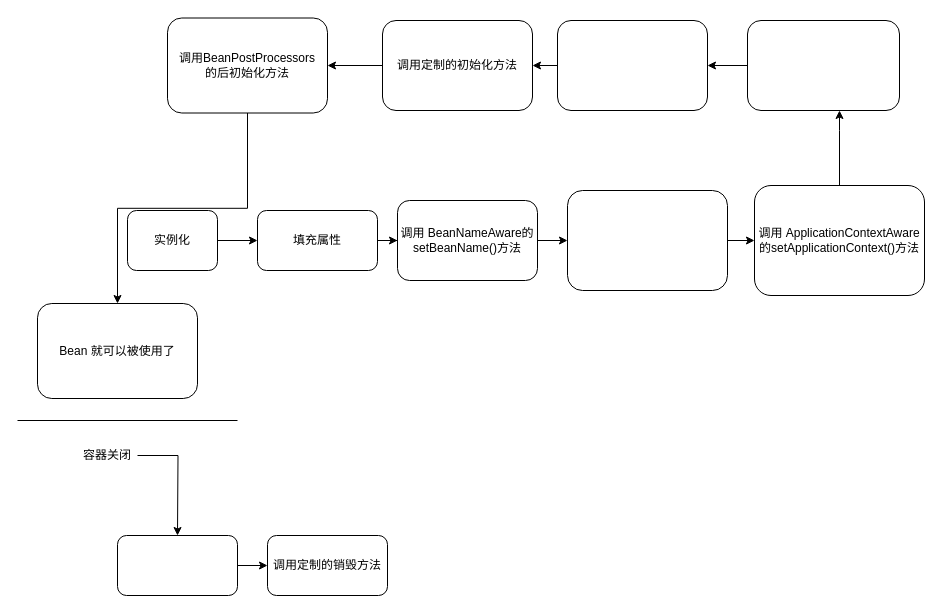
Image size: 942x613. Some labels were removed from this diagram. Here are the shapes that lost their labels. From the top down, the box of each, then its label:
(556, 20, 708, 110): 调用 InitializingBean 的 afterPropertiesSet()方法
(746, 20, 900, 110): 调用 BeanPostProcessors的预初始化方法
(566, 190, 728, 290): 调用BeanFactoryAware的setBean Factory()方法
(116, 534, 238, 596): 调用 DisposableBean 的 desotry()方法
